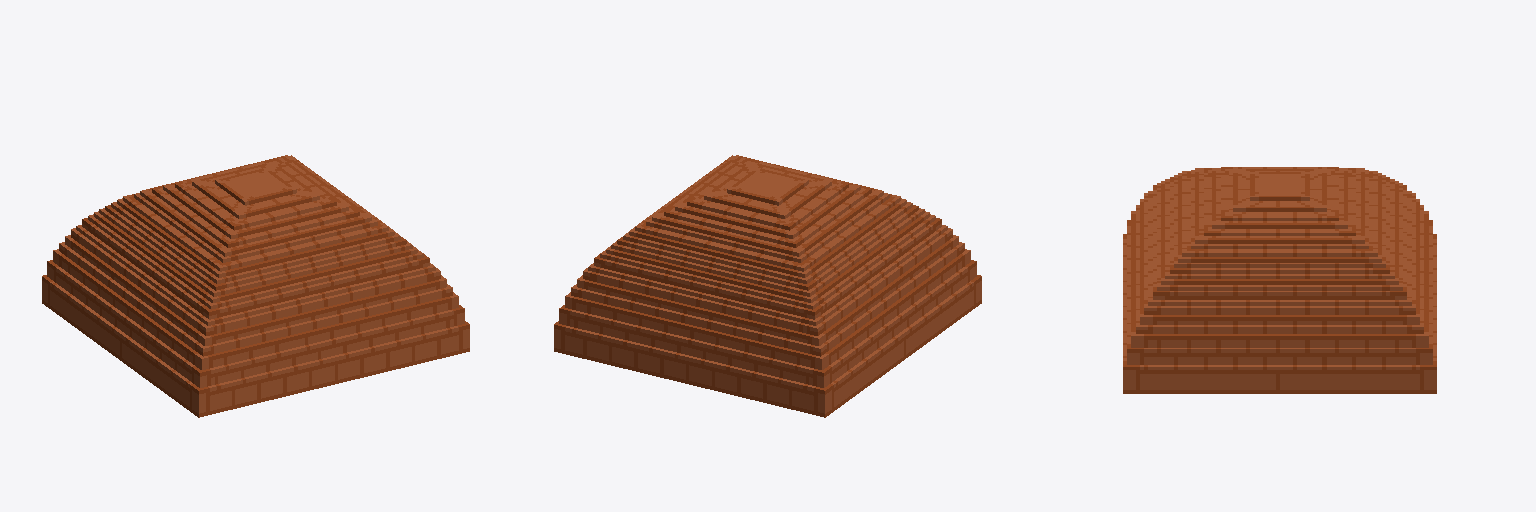
3 views of the same model, side by side, from view 1: azimuth 30°, elevation 25°; view 2: azimuth 150°, elevation 25°; view 3: azimuth 270°, elevation 25° (orthographic).
Visible parts, largest first — view 1: GameObject_roof_textured_orange_oval_cube.001; view 2: GameObject_roof_textured_orange_oval_cube.001; view 3: GameObject_roof_textured_orange_oval_cube.001.
Part boxes in pixels (bbox=[...]): GameObject_roof_textured_orange_oval_cube.001: bbox=[42, 155, 469, 417]; GameObject_roof_textured_orange_oval_cube.001: bbox=[554, 155, 981, 417]; GameObject_roof_textured_orange_oval_cube.001: bbox=[1123, 167, 1436, 393].
Size of the model in its own units: 7.4 by 3.7 by 7.4.
1 materials, 1 textured.